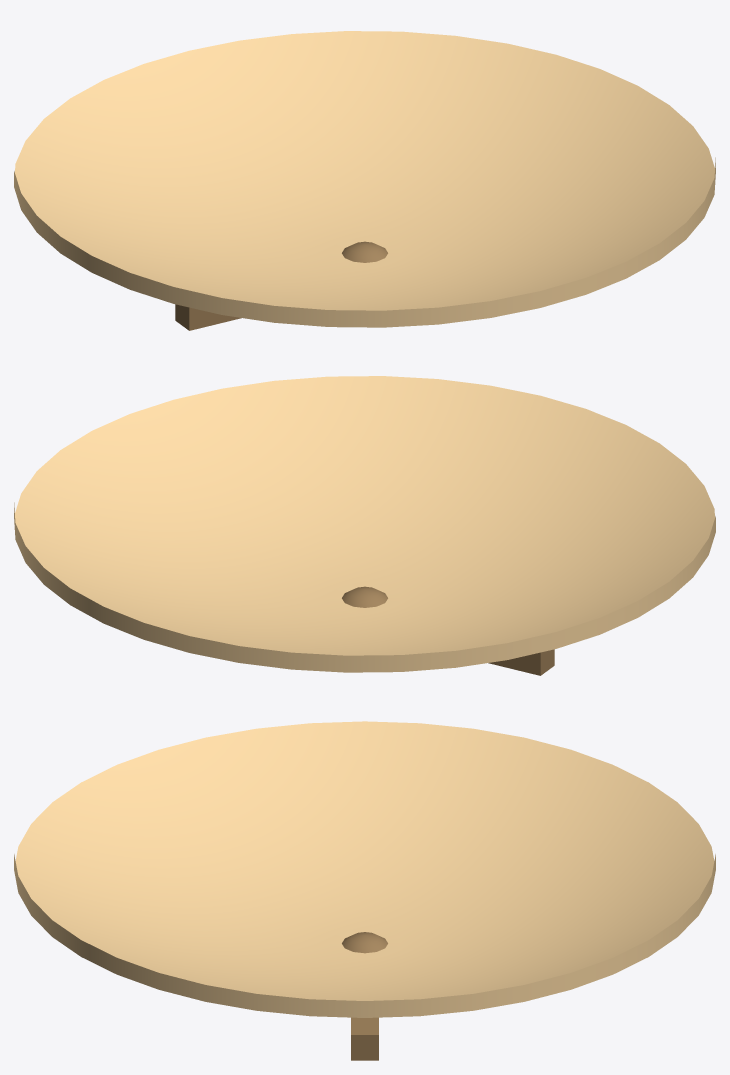
Rendered from mirror_dish.glb.
The picture shows the model from 3 angles, top to bottom: view 1: azimuth 30°, elevation 25°; view 2: azimuth 150°, elevation 25°; view 3: azimuth 270°, elevation 25°; orthographic projection.
Visible parts, largest first — view 1: mirror_dish; view 2: mirror_dish; view 3: mirror_dish.
Part boxes in pixels (bbox=[...]): mirror_dish: bbox=[14, 31, 715, 330]; mirror_dish: bbox=[14, 376, 715, 675]; mirror_dish: bbox=[14, 721, 715, 1060].
Size of the model in its own units: 3 by 0.71 by 3.
